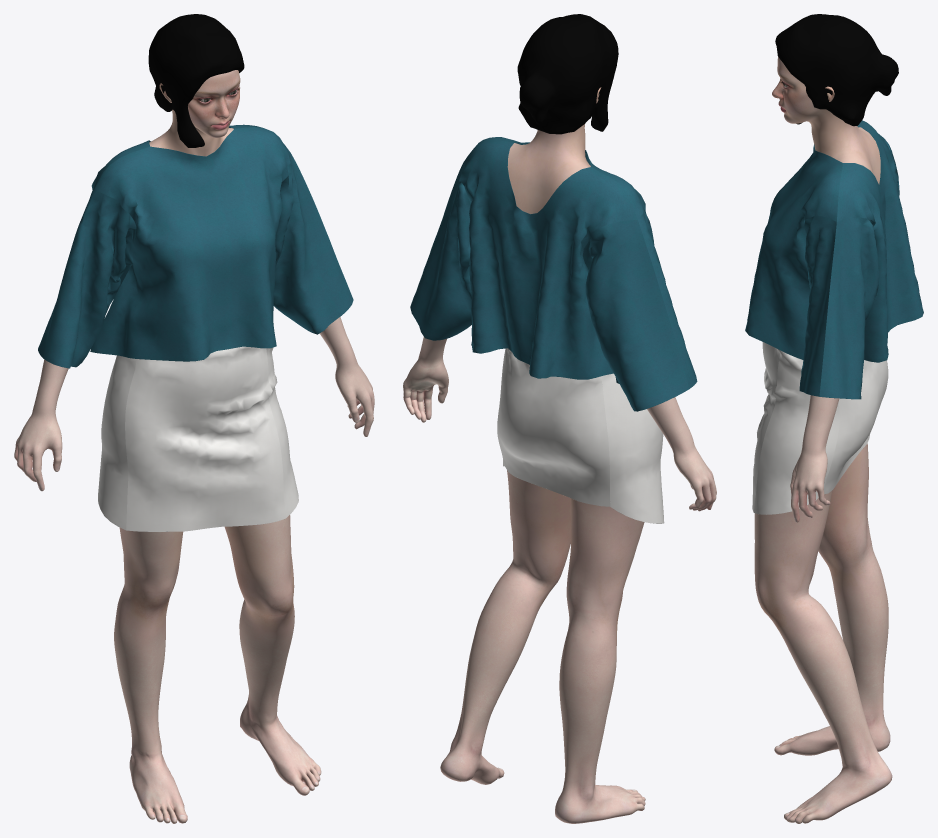
Rendered from Custom_View_4__FV2_07.obj.
The picture shows the model from 3 angles, left to right: view 1: azimuth 30°, elevation 25°; view 2: azimuth 150°, elevation 25°; view 3: azimuth 270°, elevation 25°; orthographic projection. The views are drawn at different scales.
Size of the model in its own units: 775 by 1773 by 378.
